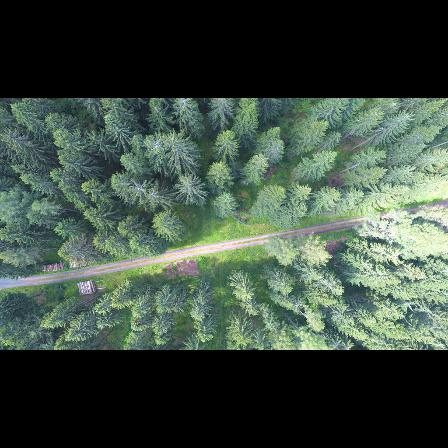Sick: (144, 135, 168, 157), (288, 297, 308, 317), (127, 181, 147, 196), (146, 187, 160, 203)
